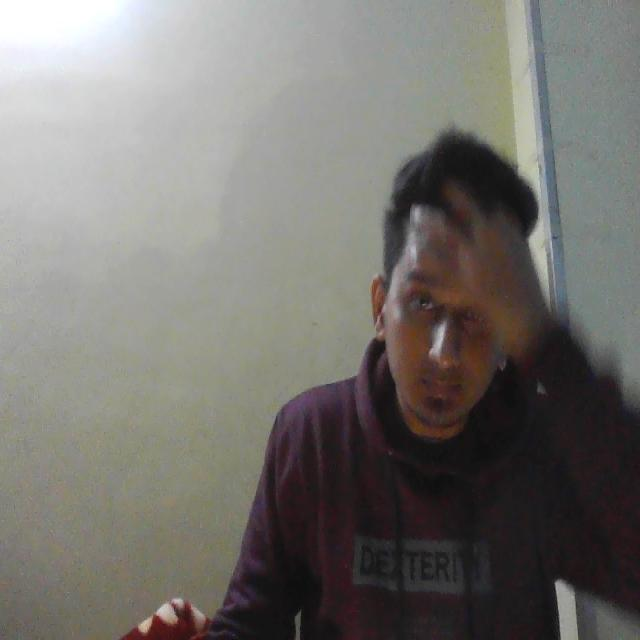real: (368, 150, 531, 458)
